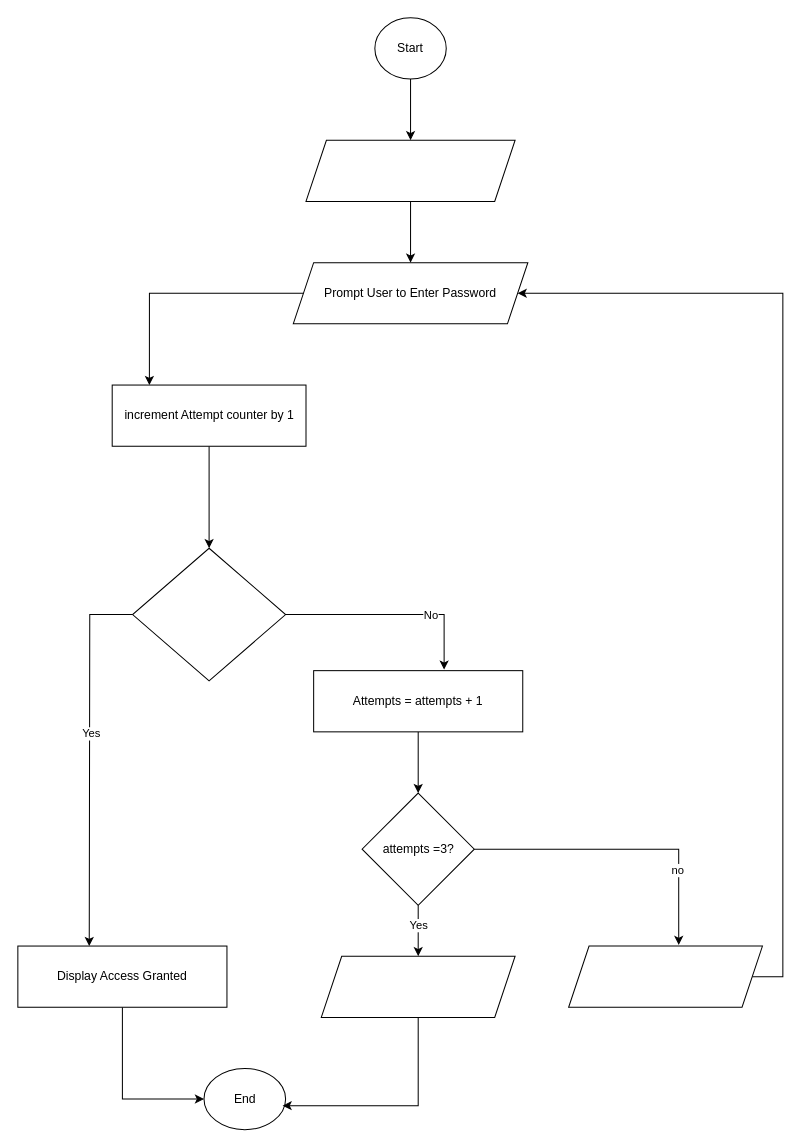
This 809x1148 diagram has some shape labels left out. Here are the shapes that lost their labels. From the top down, the box of each, then its label:
(305, 139, 515, 201): Set attempt Counter = 0
(132, 547, 286, 681): Password correct?
(320, 955, 515, 1017): Display "Account" Locked
(568, 945, 762, 1007): Display " Incorrenct password, try agin
